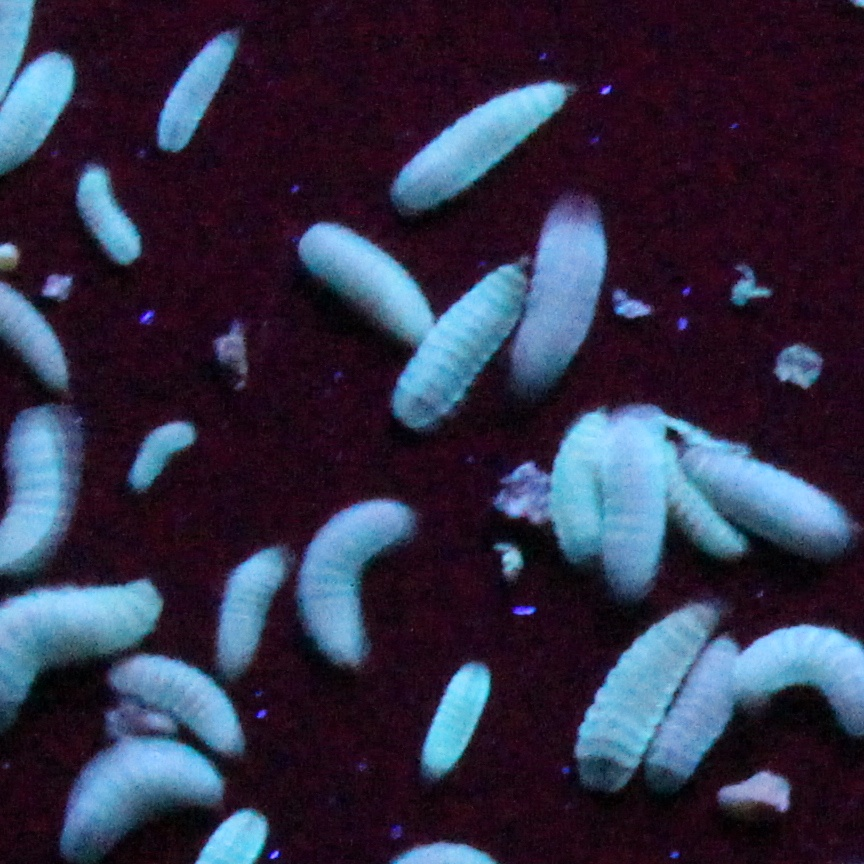larve: (578, 602, 724, 787), (384, 84, 578, 210), (395, 266, 530, 421), (684, 435, 861, 552), (295, 496, 406, 671), (58, 742, 229, 851), (293, 221, 435, 341), (538, 198, 610, 398), (649, 642, 740, 787), (607, 398, 670, 598), (115, 664, 238, 744), (158, 30, 231, 164), (216, 541, 281, 678), (418, 669, 487, 784), (553, 404, 601, 564), (78, 169, 140, 262), (130, 421, 201, 498)
